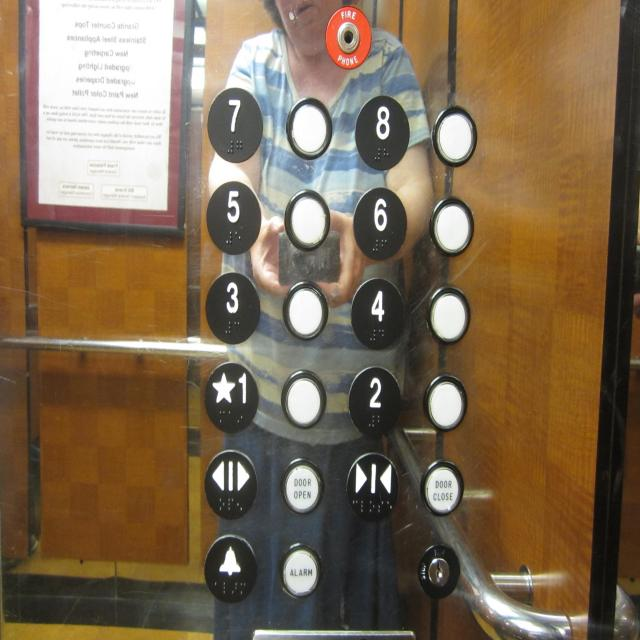2: (347, 362, 407, 442)
3: (202, 264, 263, 347)
4: (348, 272, 408, 355)
5: (203, 176, 263, 259)
6: (351, 182, 411, 264)
7: (205, 84, 265, 166)
8: (353, 91, 413, 174)
alarm: (203, 527, 261, 607)
close: (345, 448, 403, 527)
empty: (279, 274, 330, 344), (283, 93, 334, 162), (278, 363, 328, 433), (283, 185, 333, 254), (422, 369, 470, 434), (426, 282, 474, 347), (428, 192, 476, 257), (429, 103, 477, 167)
keyhole: (324, 4, 372, 69), (416, 540, 462, 598)
open: (200, 447, 262, 521)
s1: (202, 356, 262, 436)
text_alarm bell: (276, 538, 324, 603)
text_door close: (420, 455, 468, 520)
text_door open: (278, 453, 326, 518)
